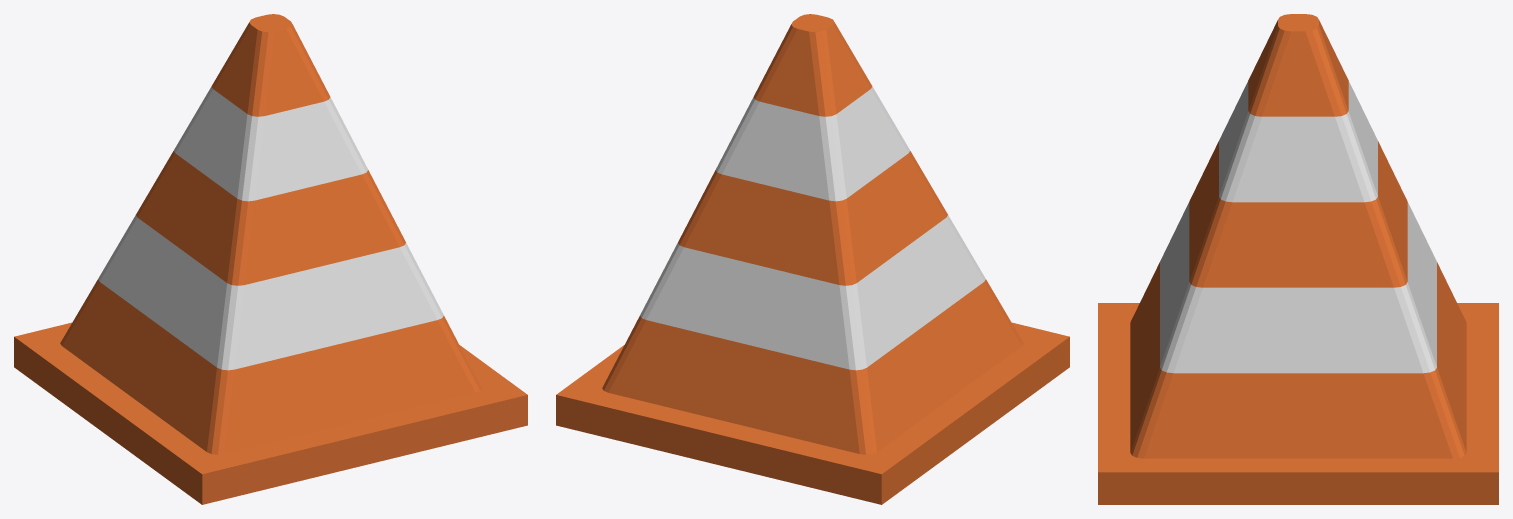
Rendered from TrafficCone.fbx.
The picture shows the model from 3 angles, left to right: view 1: azimuth 30°, elevation 25°; view 2: azimuth 150°, elevation 25°; view 3: azimuth 270°, elevation 25°; orthographic projection. The views are drawn at different scales.
Parts seen in each view (by area): view 1: Cube; view 2: Cube; view 3: Cube.
Part boxes in pixels (x1=…): Cube: x1=14, y1=14, x2=527, y2=504; Cube: x1=556, y1=14, x2=1069, y2=504; Cube: x1=1098, y1=14, x2=1498, y2=504.
Bounding box in the file's own units: 200 × 219 × 200.
